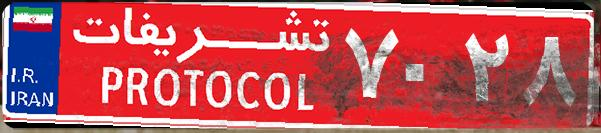0: (400, 20, 460, 115)
2: (460, 20, 520, 115)
7: (340, 20, 400, 115)
8: (520, 20, 580, 115)
تشریفات: (60, 8, 340, 125)
